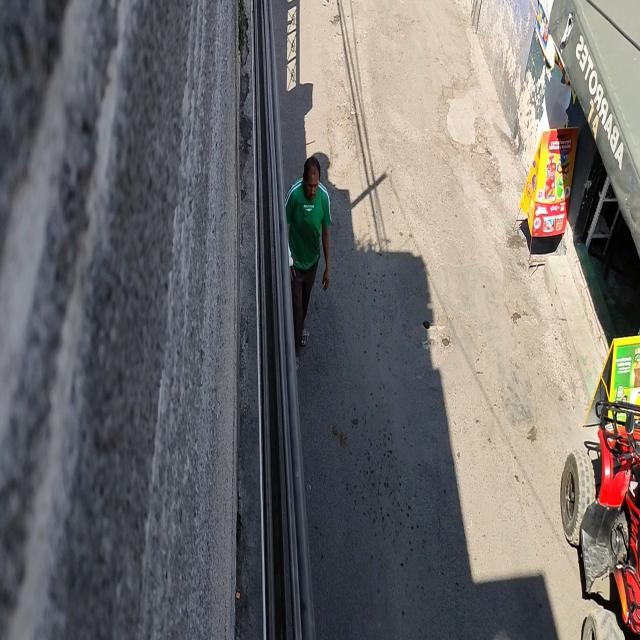adult: (281, 156, 335, 365)
